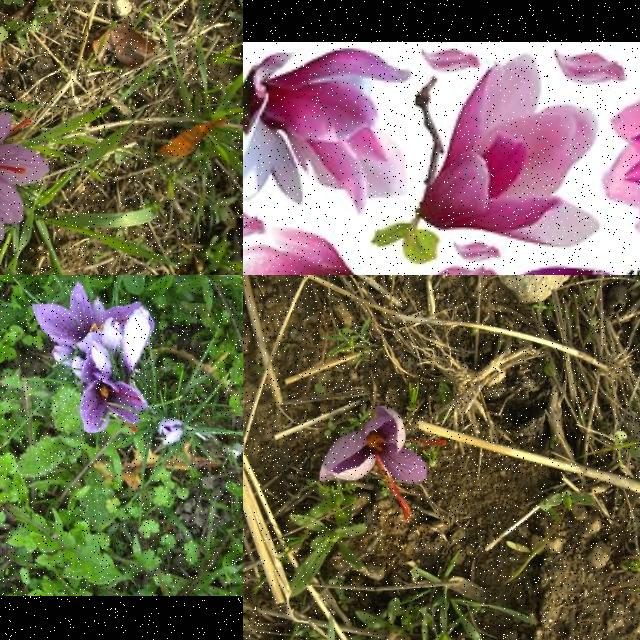flower: (318, 406, 446, 520), (0, 113, 48, 244), (158, 419, 184, 448)
overlap: (31, 284, 156, 434)
